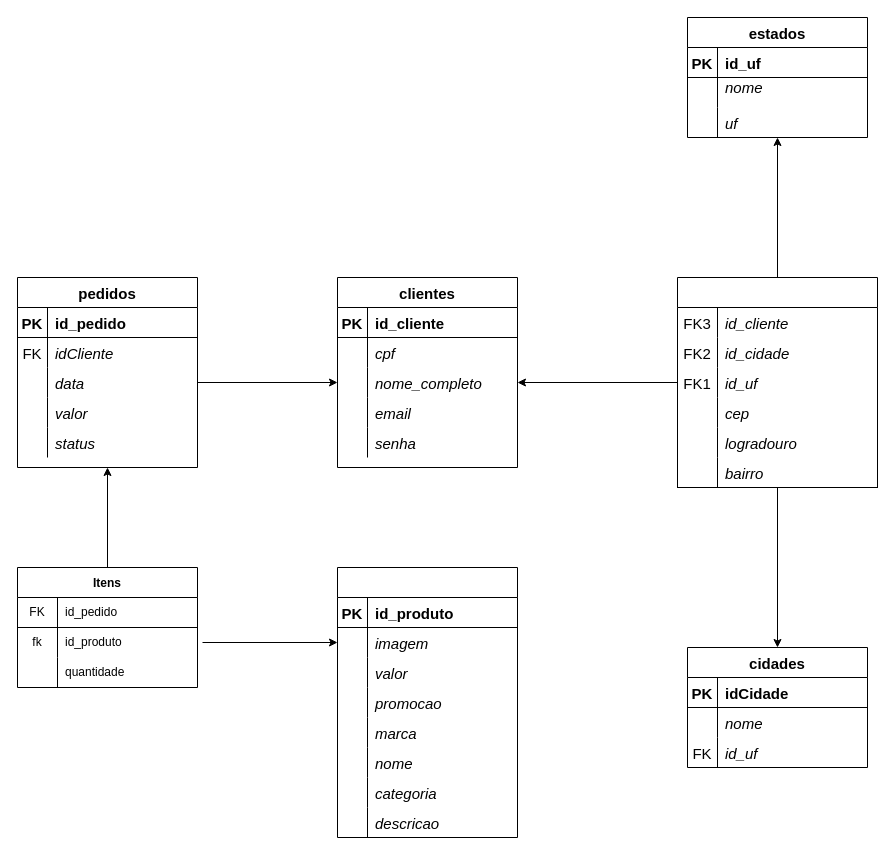
Image size: 895x855. Some labels were removed from this diagram. Each missing label, with the box of its shape:
enderecos: (676, 276, 878, 488)
produtos: (336, 566, 518, 838)
